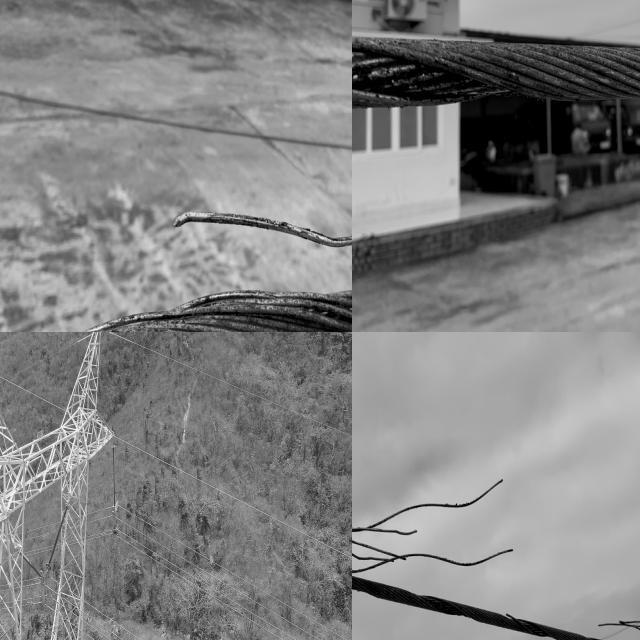杆塔: (0, 332, 118, 640)
正常绝缘子: (45, 501, 71, 571), (14, 544, 43, 581), (111, 444, 117, 507)
电缆破损: (352, 470, 640, 640), (178, 199, 352, 332)
